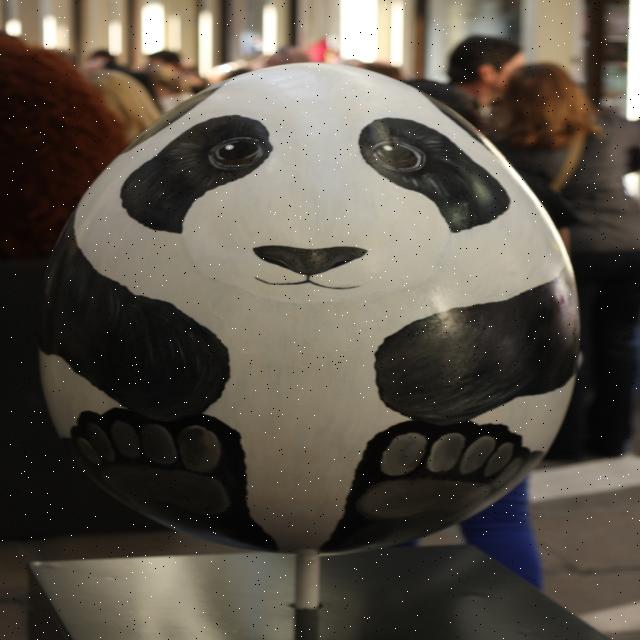panda: (34, 57, 584, 560)
